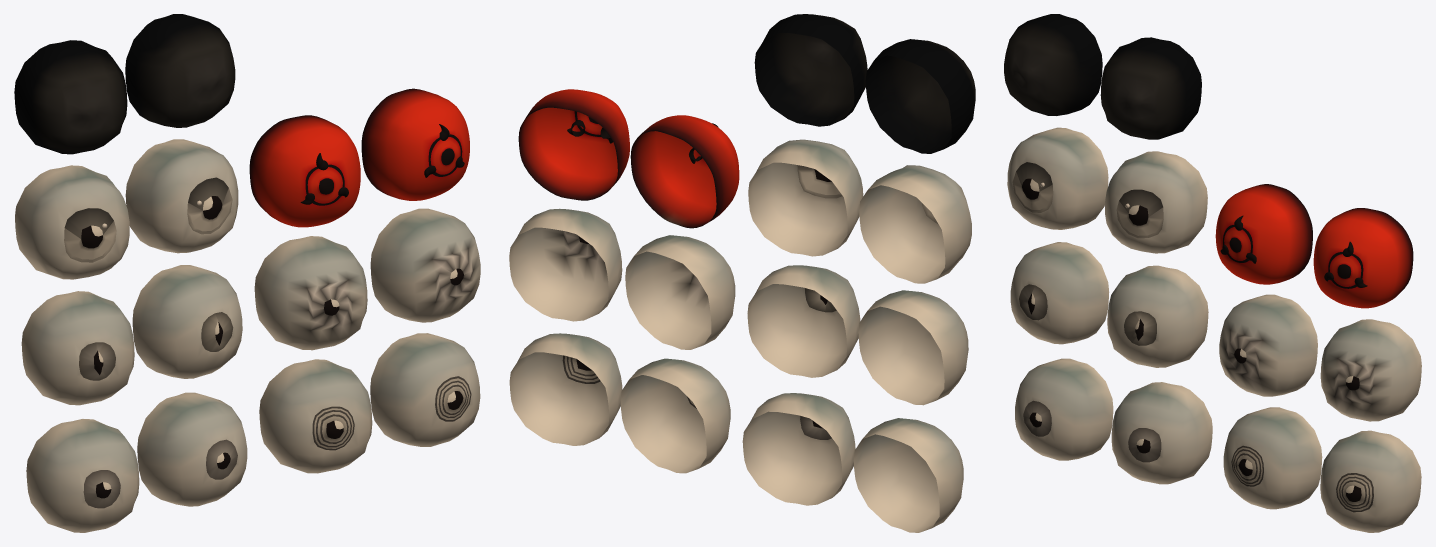
The model's file is Eyes.fbx.
3 renders of one model, left to right at view 1: azimuth 30°, elevation 25°; view 2: azimuth 150°, elevation 25°; view 3: azimuth 330°, elevation 25°, orthographic. The views are drawn at different scales.
Visible parts, largest first — view 1: Anime_Eyes, Black_Eye, Crazy_Eye, Standard_Eye, Hipnotise_Eye, Reptile_Eye, Sharingan_Eye; view 2: Anime_Eyes, Crazy_Eye, Hipnotise_Eye, Standard_Eye, Reptile_Eye, Black_Eye, Sharingan_Eye; view 3: Anime_Eyes, Crazy_Eye, Standard_Eye, Reptile_Eye, Hipnotise_Eye, Black_Eye, Sharingan_Eye.
Boxes of the visible parts, bbox=[...] form: Anime_Eyes: bbox=[15, 139, 238, 279]; Black_Eye: bbox=[14, 14, 235, 154]; Crazy_Eye: bbox=[254, 208, 480, 350]; Standard_Eye: bbox=[26, 392, 247, 532]; Hipnotise_Eye: bbox=[259, 333, 480, 473]; Reptile_Eye: bbox=[21, 265, 242, 405]; Sharingan_Eye: bbox=[249, 88, 469, 227]; Anime_Eyes: bbox=[748, 139, 971, 283]; Crazy_Eye: bbox=[509, 208, 735, 349]; Hipnotise_Eye: bbox=[509, 333, 730, 473]; Standard_Eye: bbox=[742, 393, 963, 532]; Reptile_Eye: bbox=[747, 265, 968, 405]; Black_Eye: bbox=[754, 14, 975, 153]; Sharingan_Eye: bbox=[518, 89, 739, 228]; Anime_Eyes: bbox=[1007, 127, 1207, 253]; Crazy_Eye: bbox=[1219, 294, 1421, 421]; Standard_Eye: bbox=[1015, 358, 1212, 484]; Reptile_Eye: bbox=[1010, 242, 1208, 367]; Hipnotise_Eye: bbox=[1223, 407, 1421, 532]; Black_Eye: bbox=[1004, 14, 1201, 139]; Sharingan_Eye: bbox=[1215, 184, 1413, 308].
Size of the model in its own units: 33.81 by 34.65 by 5.87.
